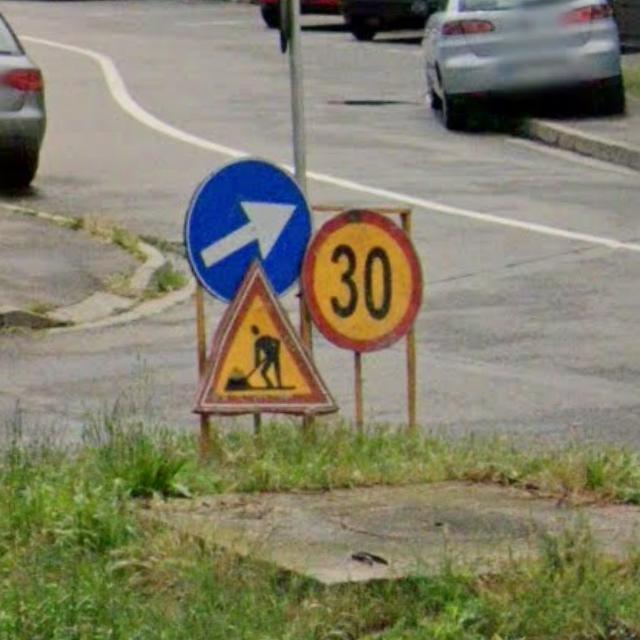forb_speed_over_30: (303, 210, 423, 354)
